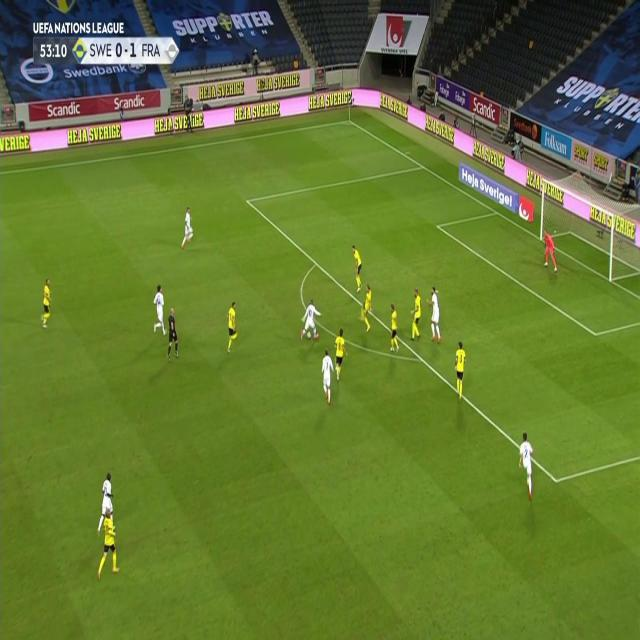ball: (306, 330, 312, 340)
player: (96, 508, 120, 580), (517, 429, 536, 503), (95, 471, 115, 533), (426, 285, 443, 343), (452, 339, 468, 399), (300, 299, 322, 342), (319, 348, 335, 406), (332, 326, 348, 382), (408, 286, 424, 340), (224, 300, 240, 354), (541, 226, 559, 273), (151, 284, 167, 336), (166, 305, 180, 361), (39, 276, 53, 329), (387, 301, 401, 354), (359, 284, 374, 332), (350, 242, 364, 292), (180, 205, 194, 249)
